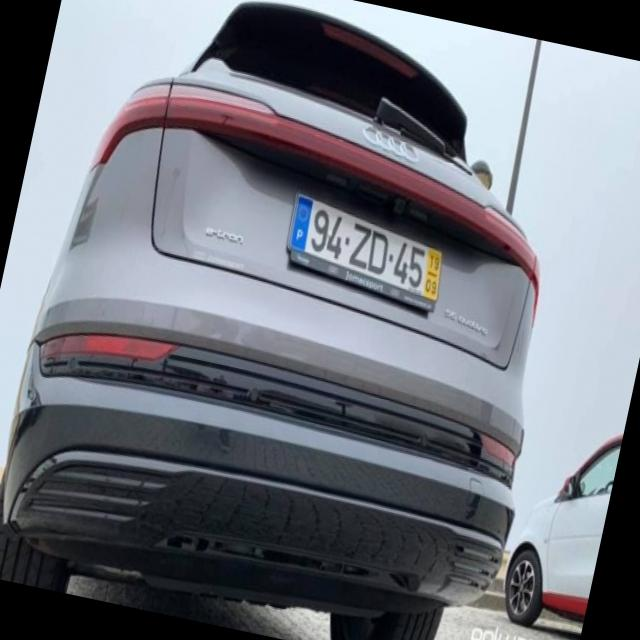portuguese-license-plates: (285, 189, 445, 304)
